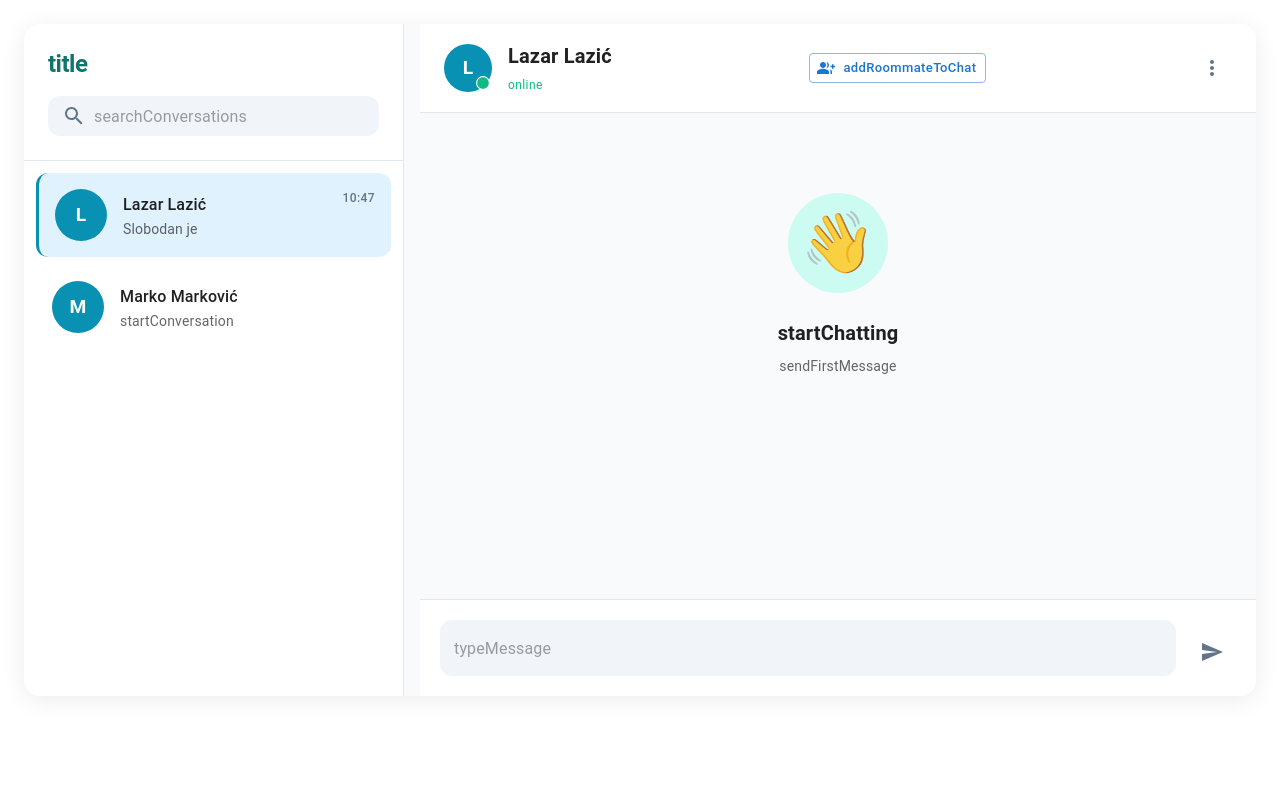
Test case: ChatPage - shared conversations › offers "add my roommate" in a conversation with the landlord, and opens the new shared conversation
The width and height of the screenshot is (1280, 800).
Click the button "addRoommateToChat". click: (898, 68)
box: [809, 53, 986, 83]
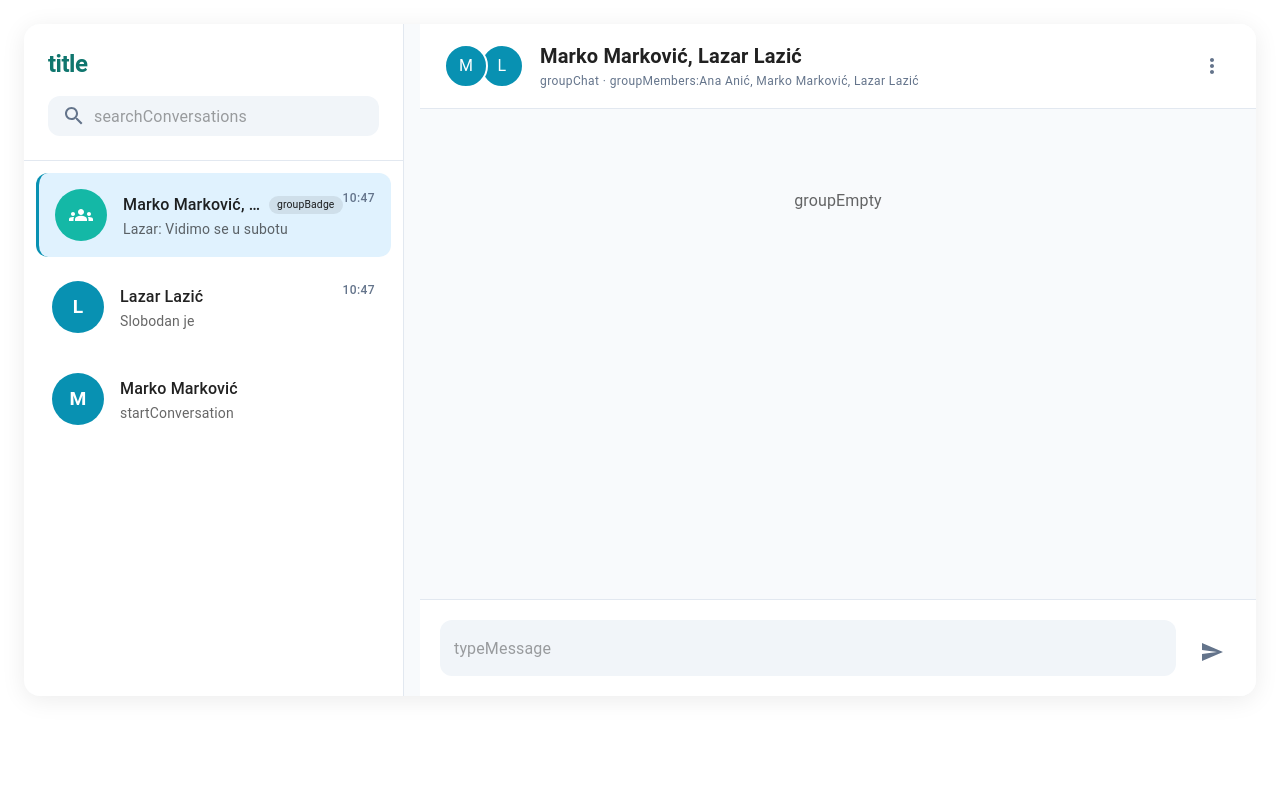
Now the text "groupMembers:" is shown, box [610, 74, 919, 88]
